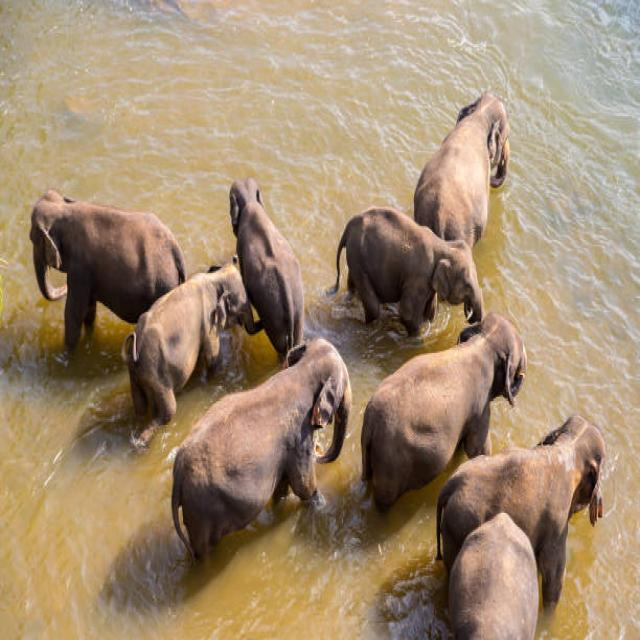Elephant: (165, 356, 359, 545), (359, 314, 521, 502), (25, 184, 185, 356), (448, 410, 607, 567), (336, 201, 491, 348), (218, 175, 328, 352), (422, 84, 517, 271), (435, 516, 540, 640)
